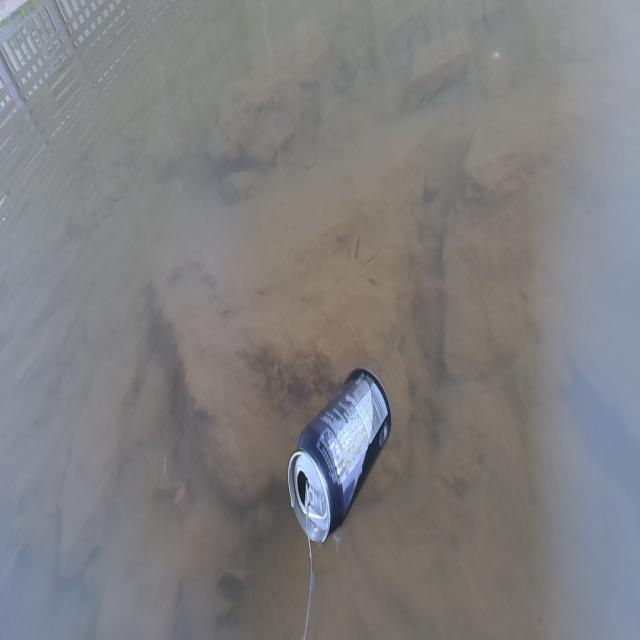Can: (286, 366, 394, 544)
